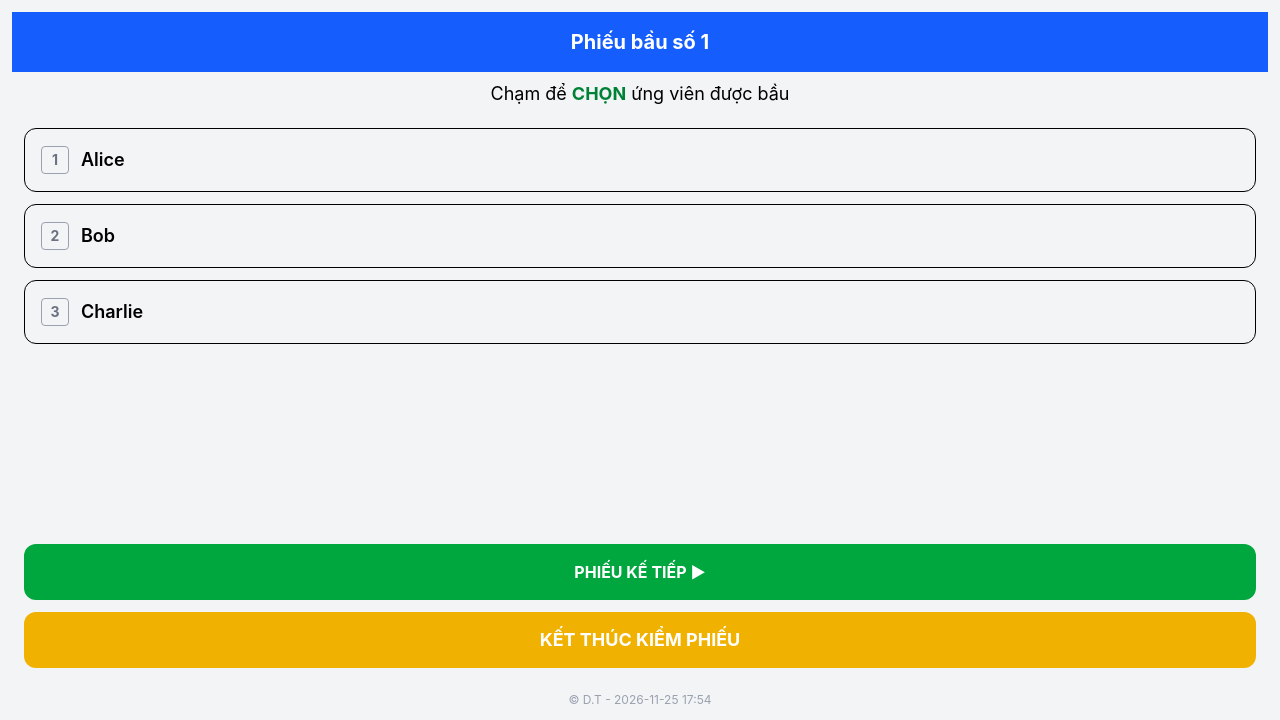
Test: Counting screen › shows finish confirm modal when clicking KẾT THÚC
Note: disapprove someone so the standard confirmation modal is shown
Step 1. Click the button "1 Alice" → (103, 160), box left=24, top=128, right=1256, bottom=192
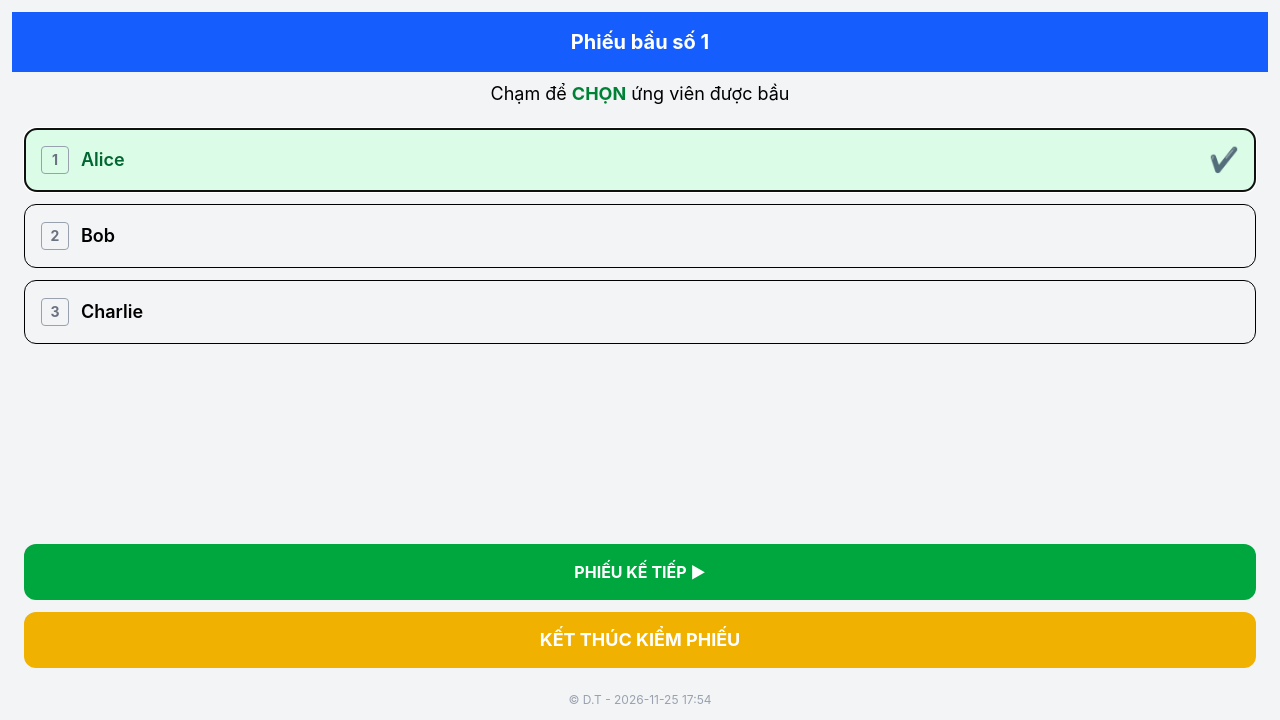
Step 2. Click the button "KẾT THÚC KIỂM PHIẾU" → (640, 640), box left=24, top=612, right=1256, bottom=668
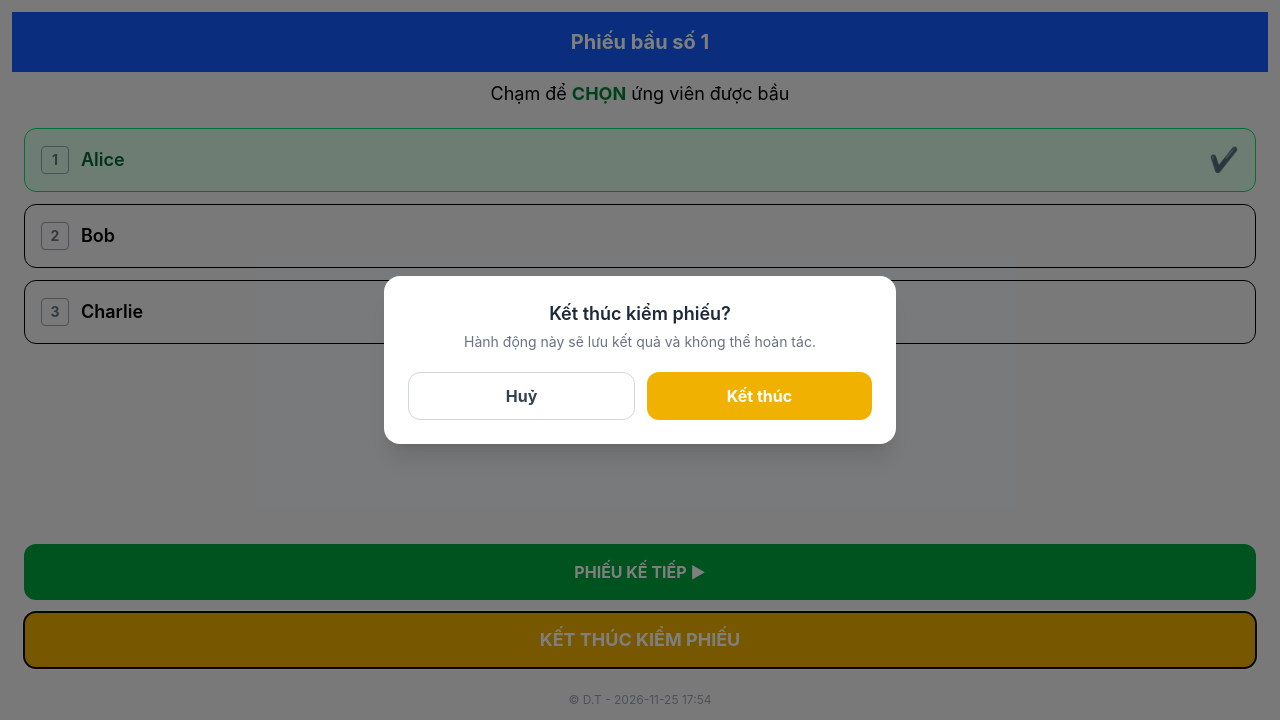
Expected: the text "Kết thúc kiểm phiếu?" is shown, left=549, top=303, right=731, bottom=324
